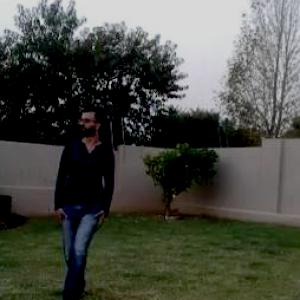follow: (48, 102, 120, 298)
